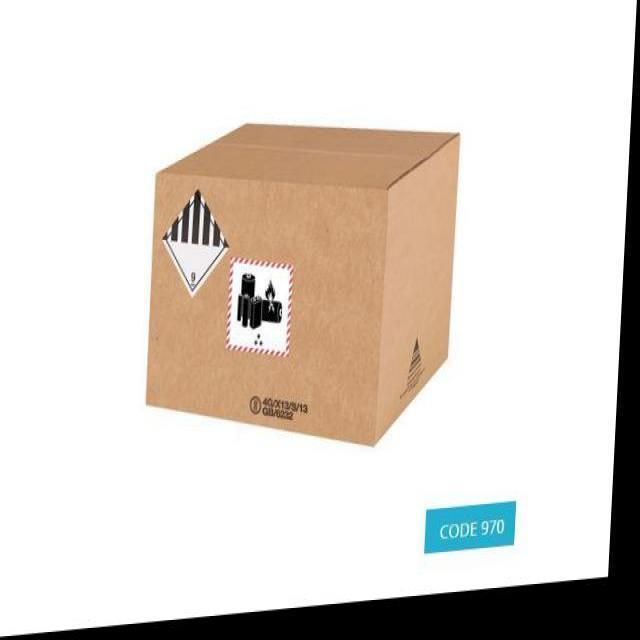box: (143, 112, 468, 452)
